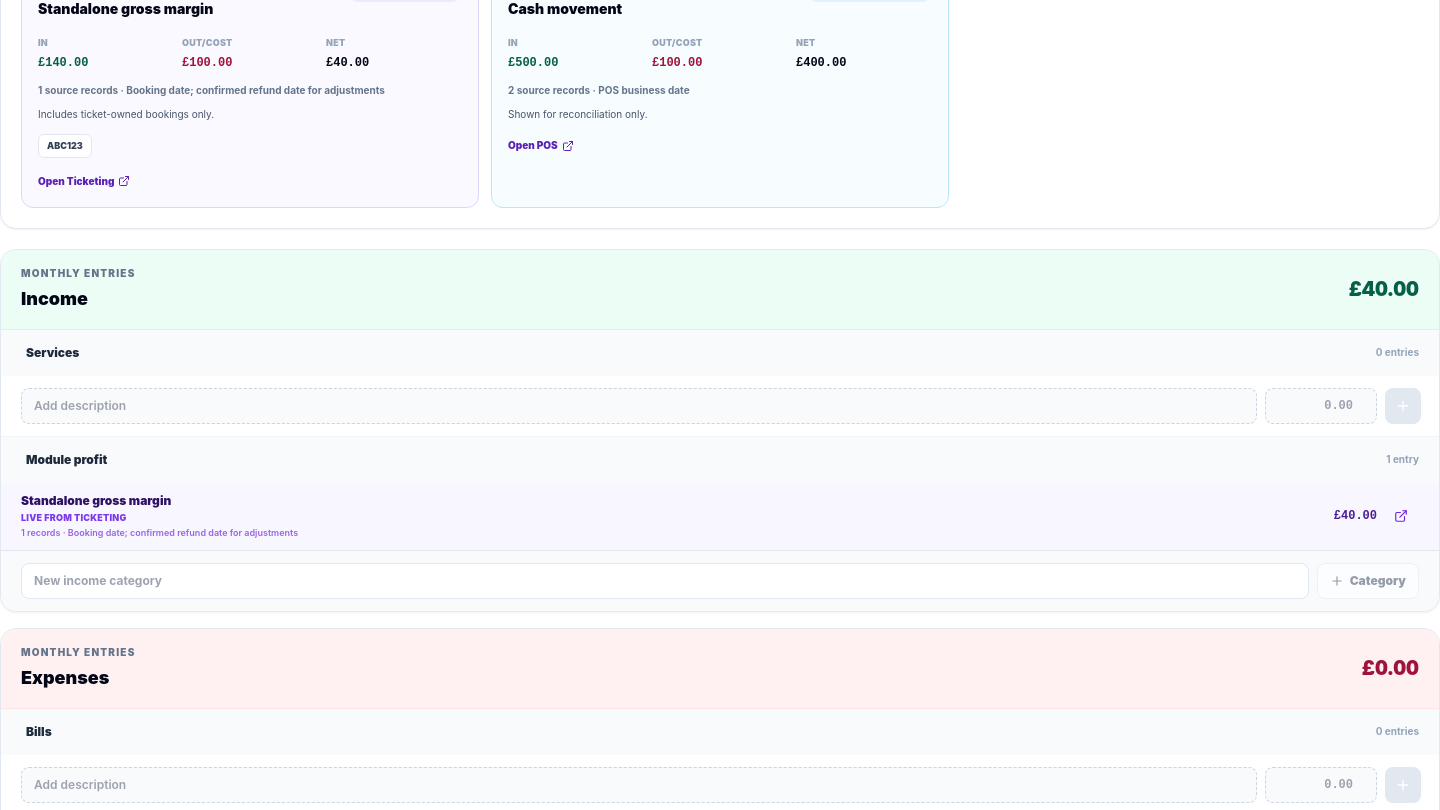
Test: live Branch Ledger › autosaves a fast manual entry to the live ledger
This screenshot has width=1440, height=810.
(page scrolled)
Type "Passport service" into the field named "Income Services new item" at {"x": 639, "y": 406}, box [21,388,1257,424]
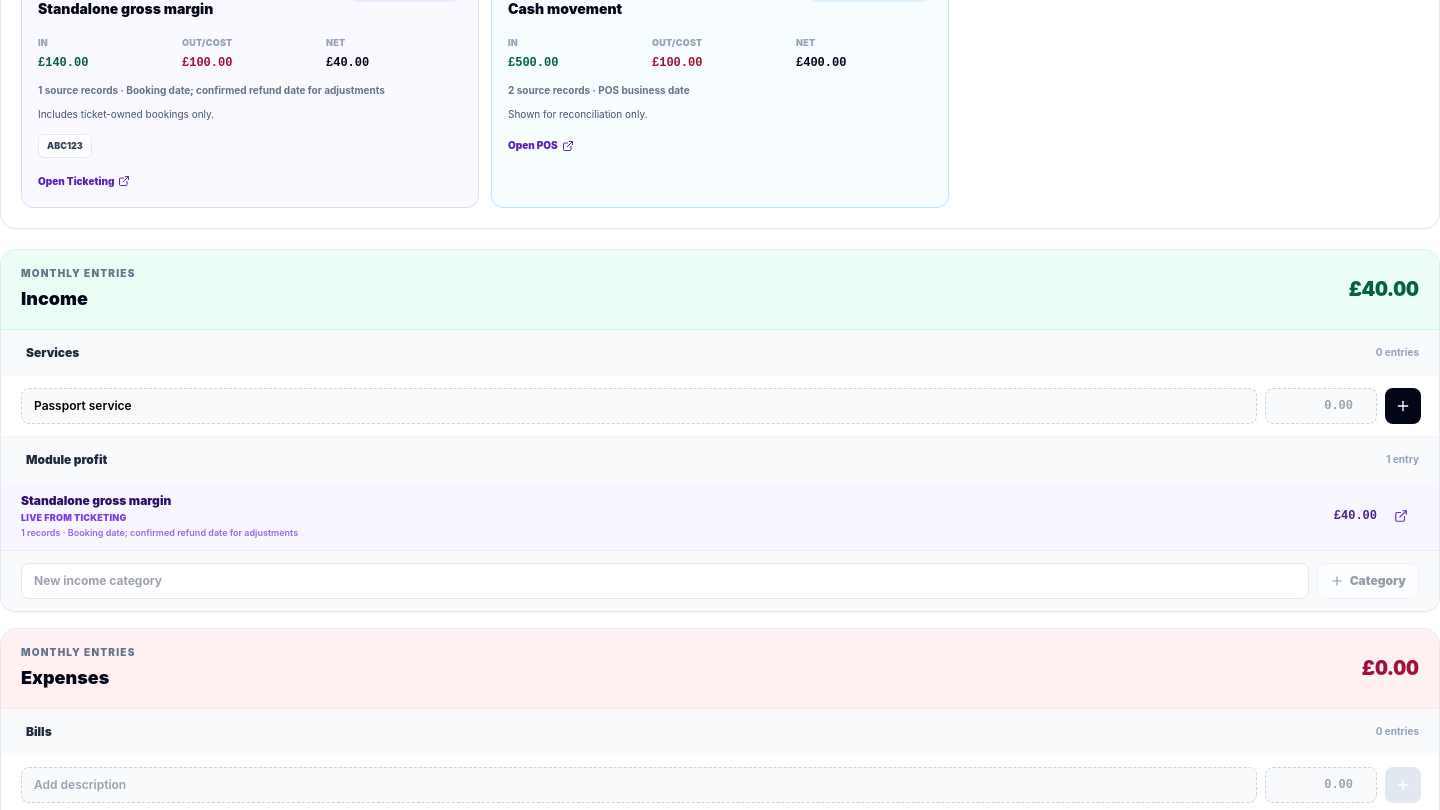
Type "45" into the number field named "Income Services new amount" at {"x": 1321, "y": 406}, box [1265,388,1377,424]
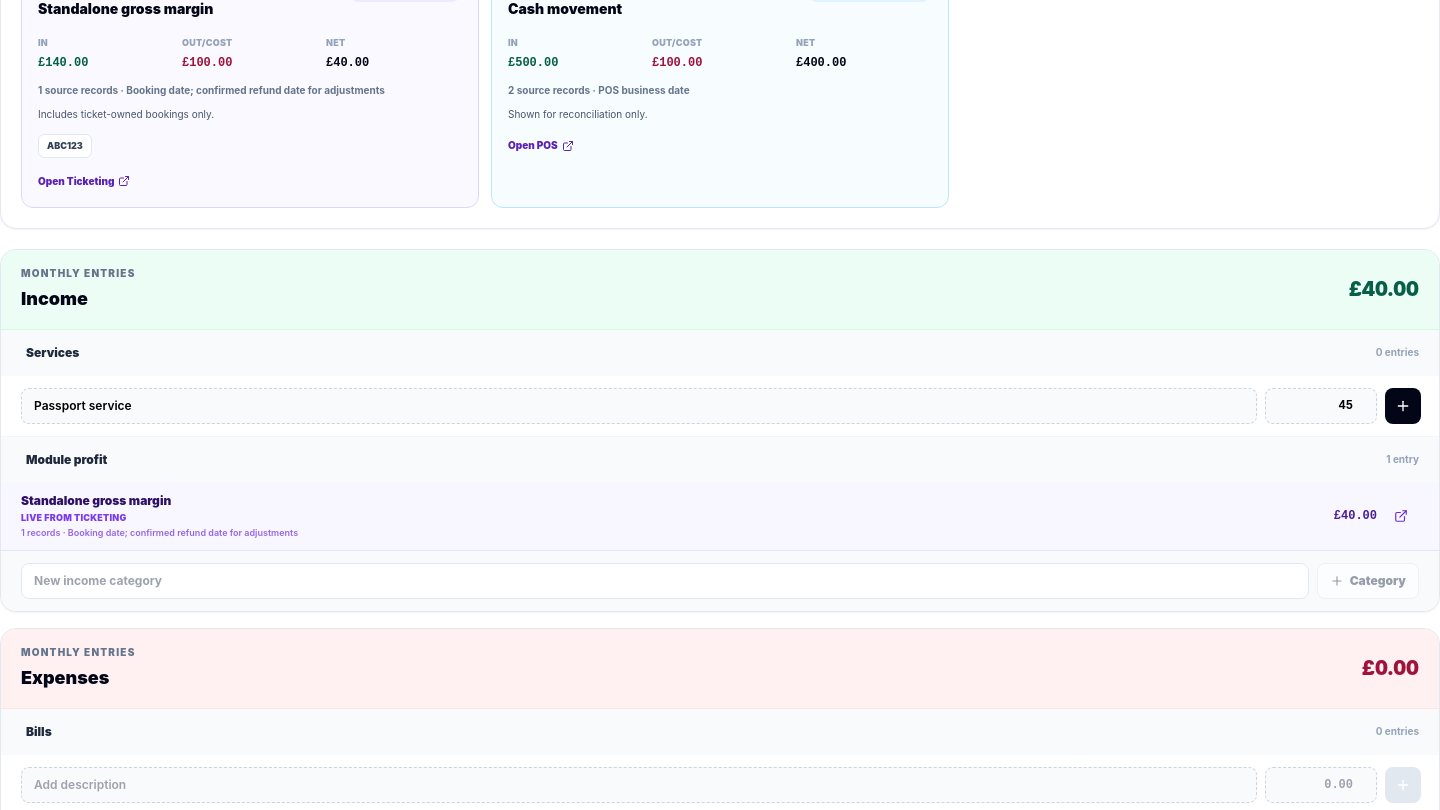
Click the button named "Add item to Services" at {"x": 1403, "y": 406}, box [1385,388,1421,424]
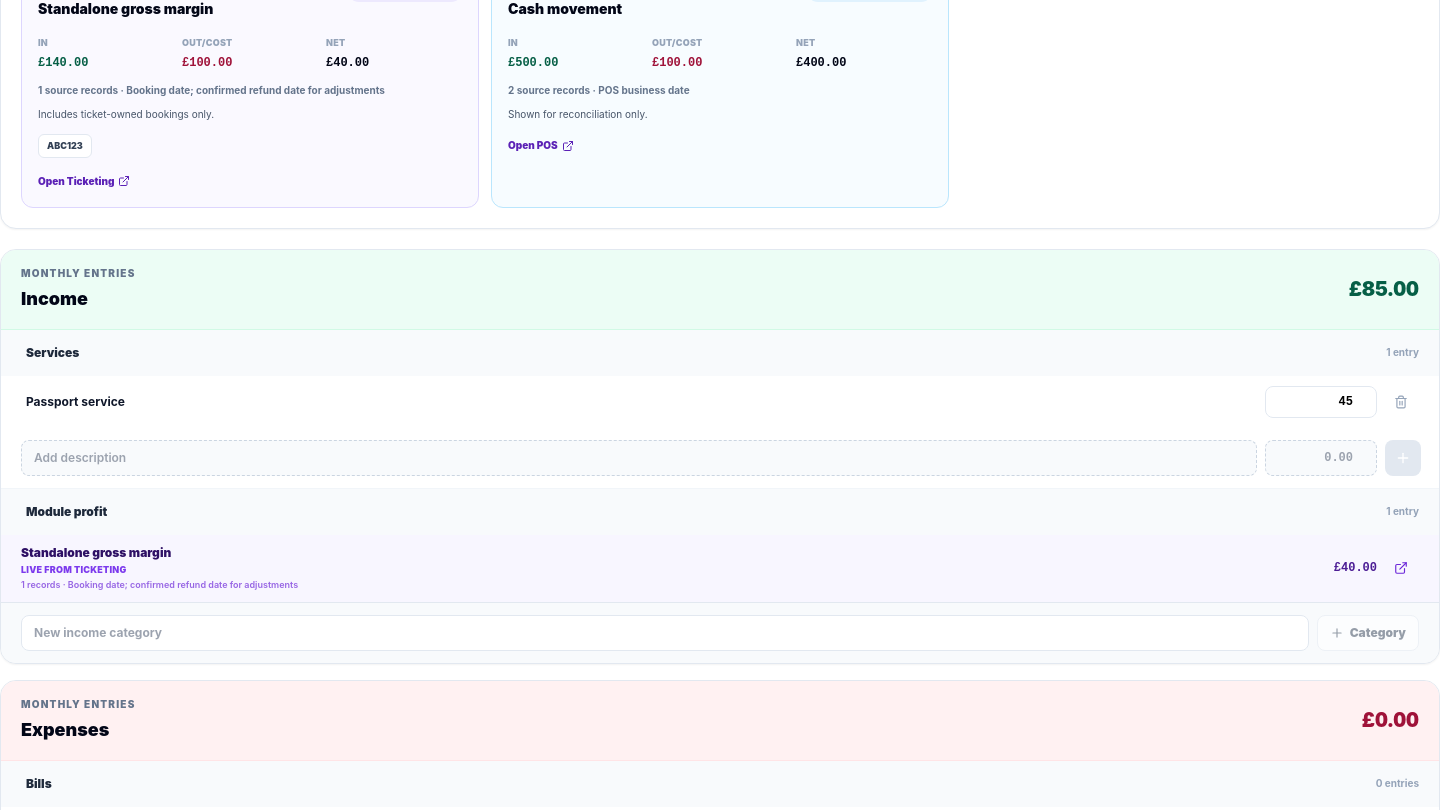
Check: the field showing "Passport service" is shown, box [21,389,1257,415]
